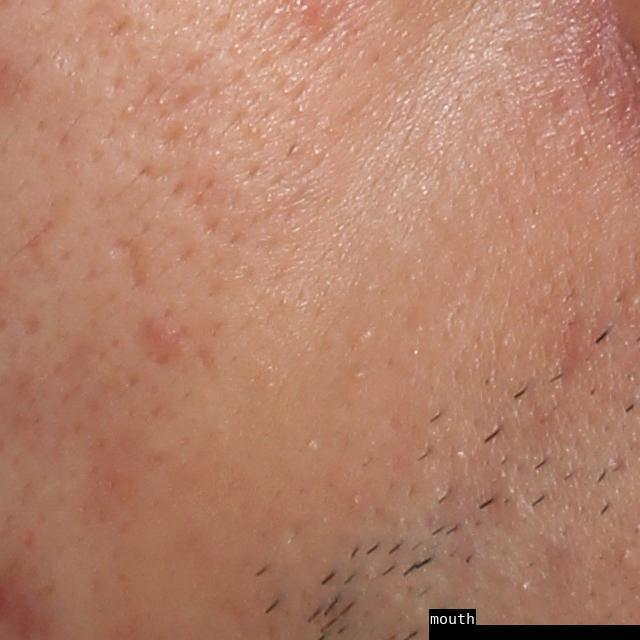atrophic_scar: (108, 236, 153, 301), (549, 326, 578, 399), (150, 116, 189, 158)
comedo: (614, 544, 637, 568)
papule: (153, 318, 185, 357)
